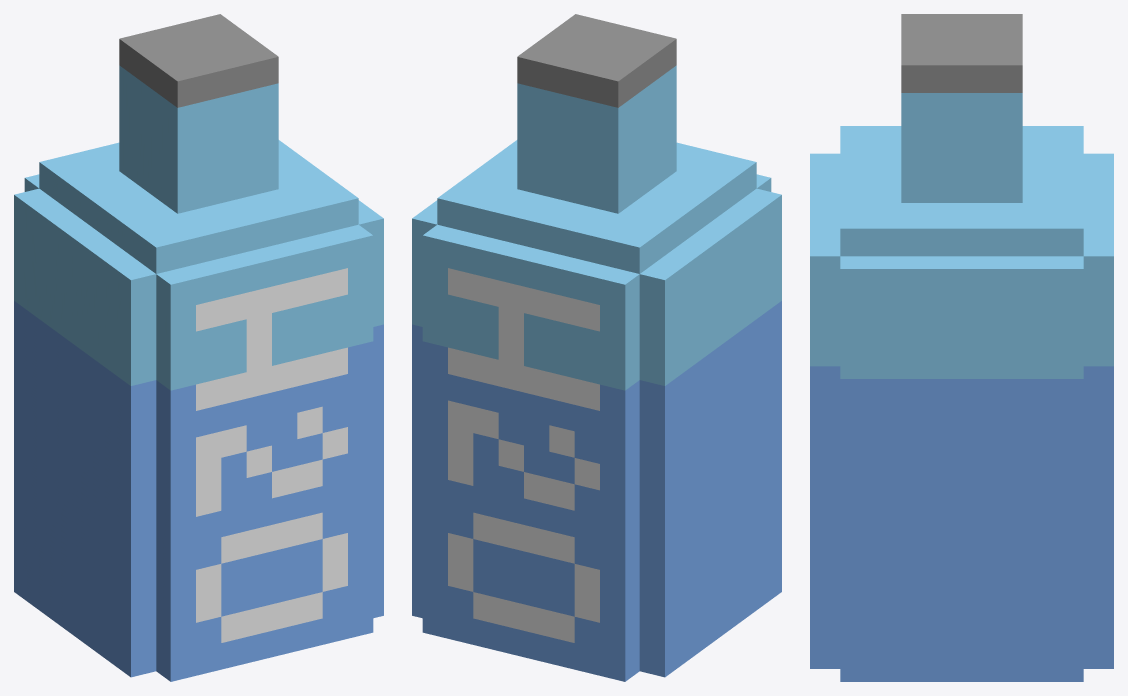
Rendered from Water.obj.
3 renders of one model, left to right at view 1: azimuth 30°, elevation 25°; view 2: azimuth 150°, elevation 25°; view 3: azimuth 270°, elevation 25°, orthographic. The views are drawn at different scales.
Size of the model in its own units: 1 by 2.1 by 1.
Materials: 1 (1 with a texture image).
